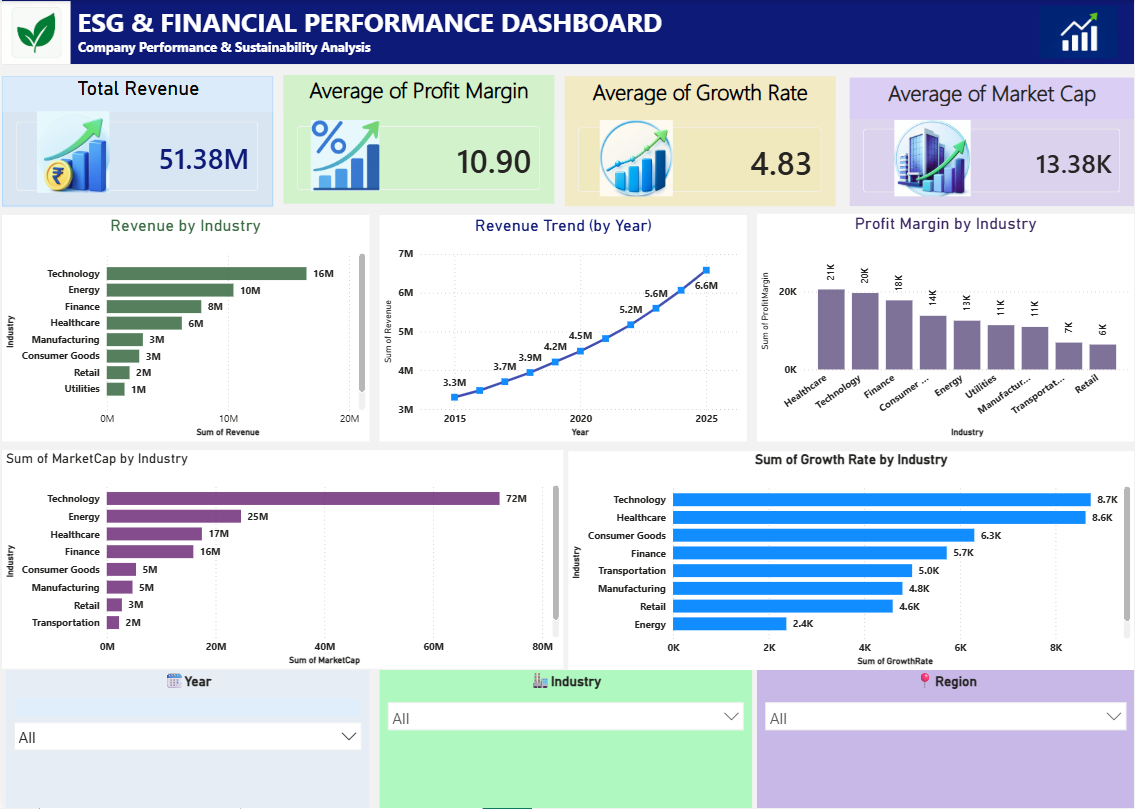

The dashboard page shown, as its layout file describes it:
{"tool":"powerbi","page":{"name":"Financial Performance","canvas":[1400,1000],"ordinal":0},"visuals":[{"type":"cardVisual","title":" Total Revenue            ","fields":{"Data":["ESG_Data.Total Revenue"]},"box":[0,94.3,335.5,160.8],"z":0},{"type":"cardVisual","title":"Average of Profit Margin","fields":{"Data":["Avg(ESG_Data.ProfitMargin)"]},"box":[347.9,92.8,335.5,159.2],"z":1000},{"type":"cardVisual","title":"Average of Market Cap","fields":{"Data":["Avg(ESG_Data.MarketCap)"]},"box":[1048.2,95.9,352.5,159.2],"z":2000},{"type":"cardVisual","title":"Average of Growth Rate","fields":{"Data":["Avg(ESG_Data.GrowthRate)"]},"box":[695.7,94.3,335.5,160.8],"z":3000},{"type":"lineChart","title":" Revenue Trend (by Year)","fields":{"Category":["ESG_Data.Year"],"Y":["Sum(ESG_Data.Revenue)"]},"box":[466.9,265.9,454.5,279.8],"z":4000},{"type":"clusteredBarChart","title":"Revenue by Industry","fields":{"Category":["ESG_Data.Industry"],"Y":["Sum(ESG_Data.Revenue)"]},"box":[0,265.9,454.5,279.8],"z":5000},{"type":"clusteredColumnChart","title":"Profit Margin by Industry","fields":{"Category":["ESG_Data.Industry"],"Y":["Sum(ESG_Data.ProfitMargin)"]},"box":[933.8,264.4,466.9,281.4],"z":6000},{"type":"slicer","title":"    🗓️Year","fields":{"Values":["ESG_Data.Year"]},"box":[4.6,828.7,449.9,171.6],"z":7000},{"type":"slicer","title":"📍Region","fields":{"Values":["ESG_Data.Region"]},"box":[933.8,828.7,466.9,171.6],"z":8000},{"type":"slicer","title":"🏭Industry","fields":{"Values":["ESG_Data.Industry"]},"box":[466.9,828.7,460.7,171.6],"z":9000},{"type":"textbox","box":[0,0,1400.4,79.2],"z":10000},{"type":"image","box":[0,1.4,84.9,77.7],"z":11000},{"type":"clusteredBarChart","title":"Sum of Growth Rate by Industry","fields":{"Category":["ESG_Data.Industry"],"Y":["Sum(ESG_Data.GrowthRate)"]},"box":[700.4,558.1,700.4,270.6],"z":12000},{"type":"barChart","fields":{"Category":["ESG_Data.Industry"],"Y":["Sum(ESG_Data.MarketCap)"]},"box":[0,556.6,694.2,270.6],"z":13000},{"type":"image","box":[1283.8,0,96.4,79.2],"z":14000},{"type":"image","box":[41.7,137.6,92.8,100.5],"z":15000},{"type":"image","box":[381.9,148.4,85,88.1],"z":16000},{"type":"image","box":[729.7,148.4,109.8,94.3],"z":17000},{"type":"image","box":[1085.3,148.4,131.4,94.3],"z":18000}]}

Visuals, with their boxes in screenshot pixels (x1, y1, x2, y2), scaled from the page's 1400x1000 canvas onto the 1135x809 screenshot:
" Total Revenue            " cardVisual: (0, 76, 272, 206)
"Average of Profit Margin" cardVisual: (282, 75, 554, 204)
"Average of Market Cap" cardVisual: (850, 78, 1134, 206)
"Average of Growth Rate" cardVisual: (564, 76, 836, 206)
" Revenue Trend (by Year)" lineChart: (379, 215, 747, 441)
"Revenue by Industry" clusteredBarChart: (0, 215, 368, 441)
"Profit Margin by Industry" clusteredColumnChart: (757, 214, 1134, 442)
"    🗓️Year" slicer: (4, 670, 368, 808)
"📍Region" slicer: (757, 670, 1134, 808)
"🏭Industry" slicer: (379, 670, 752, 808)
textbox: (0, 0, 1134, 64)
image: (0, 1, 69, 64)
"Sum of Growth Rate by Industry" clusteredBarChart: (568, 452, 1134, 670)
barChart - ESG_Data.Industry x Sum(ESG_Data.MarketCap): (0, 450, 563, 669)
image: (1041, 0, 1119, 64)
image: (34, 111, 109, 193)
image: (310, 120, 379, 191)
image: (592, 120, 681, 196)
image: (880, 120, 986, 196)
